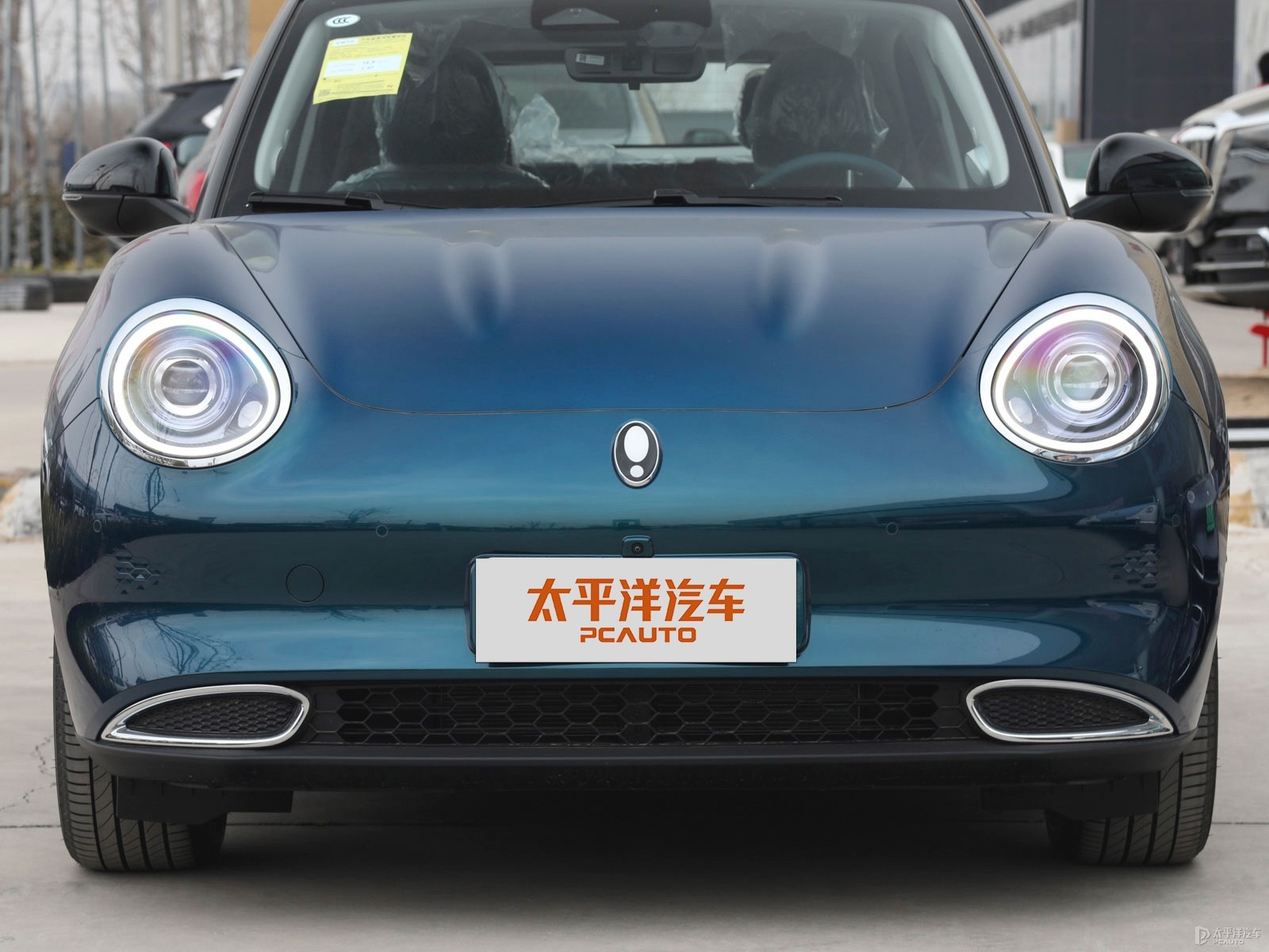ORA: (615, 421, 659, 486)
